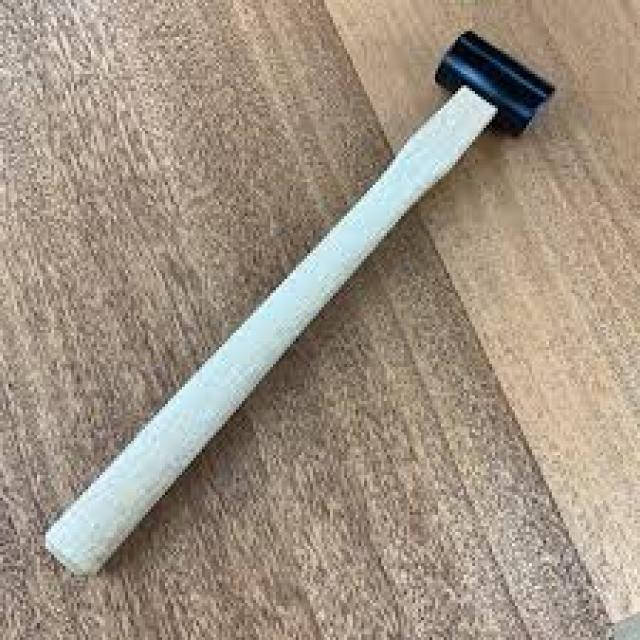hammer: (38, 24, 559, 582)
